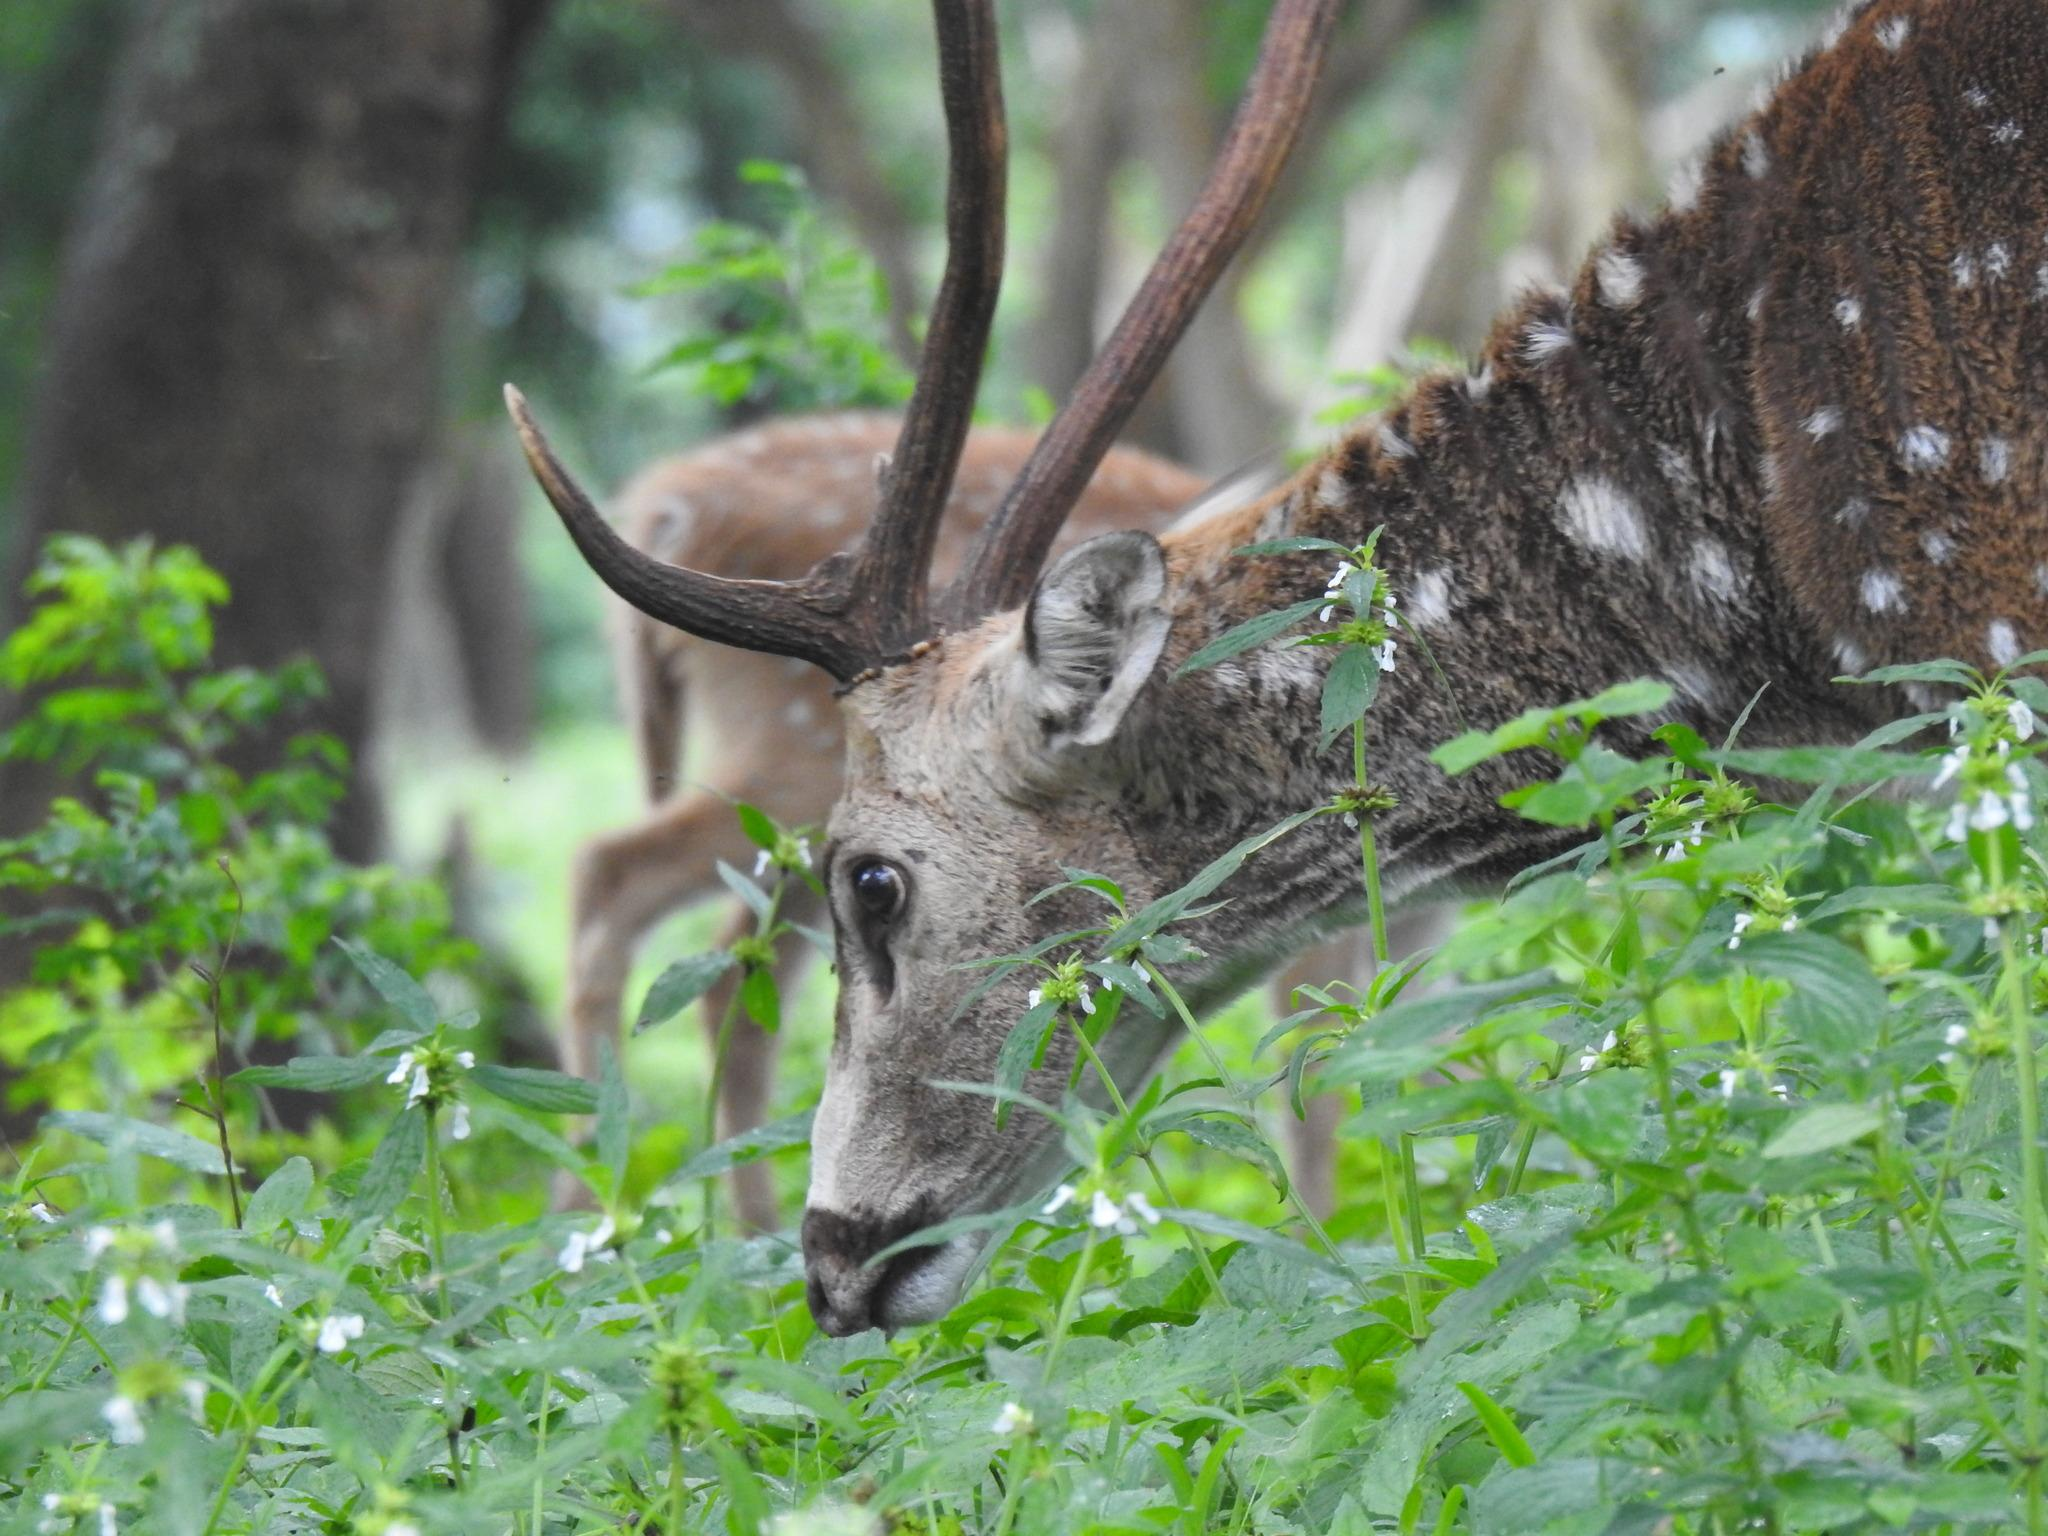Deer: (563, 599, 842, 1075)
